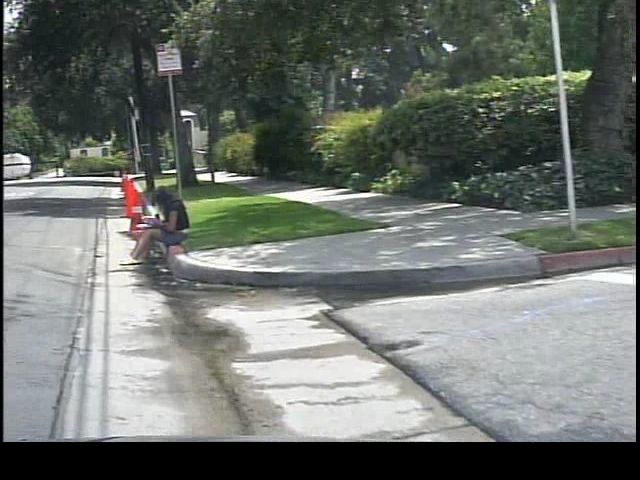person: (114, 182, 193, 270)
